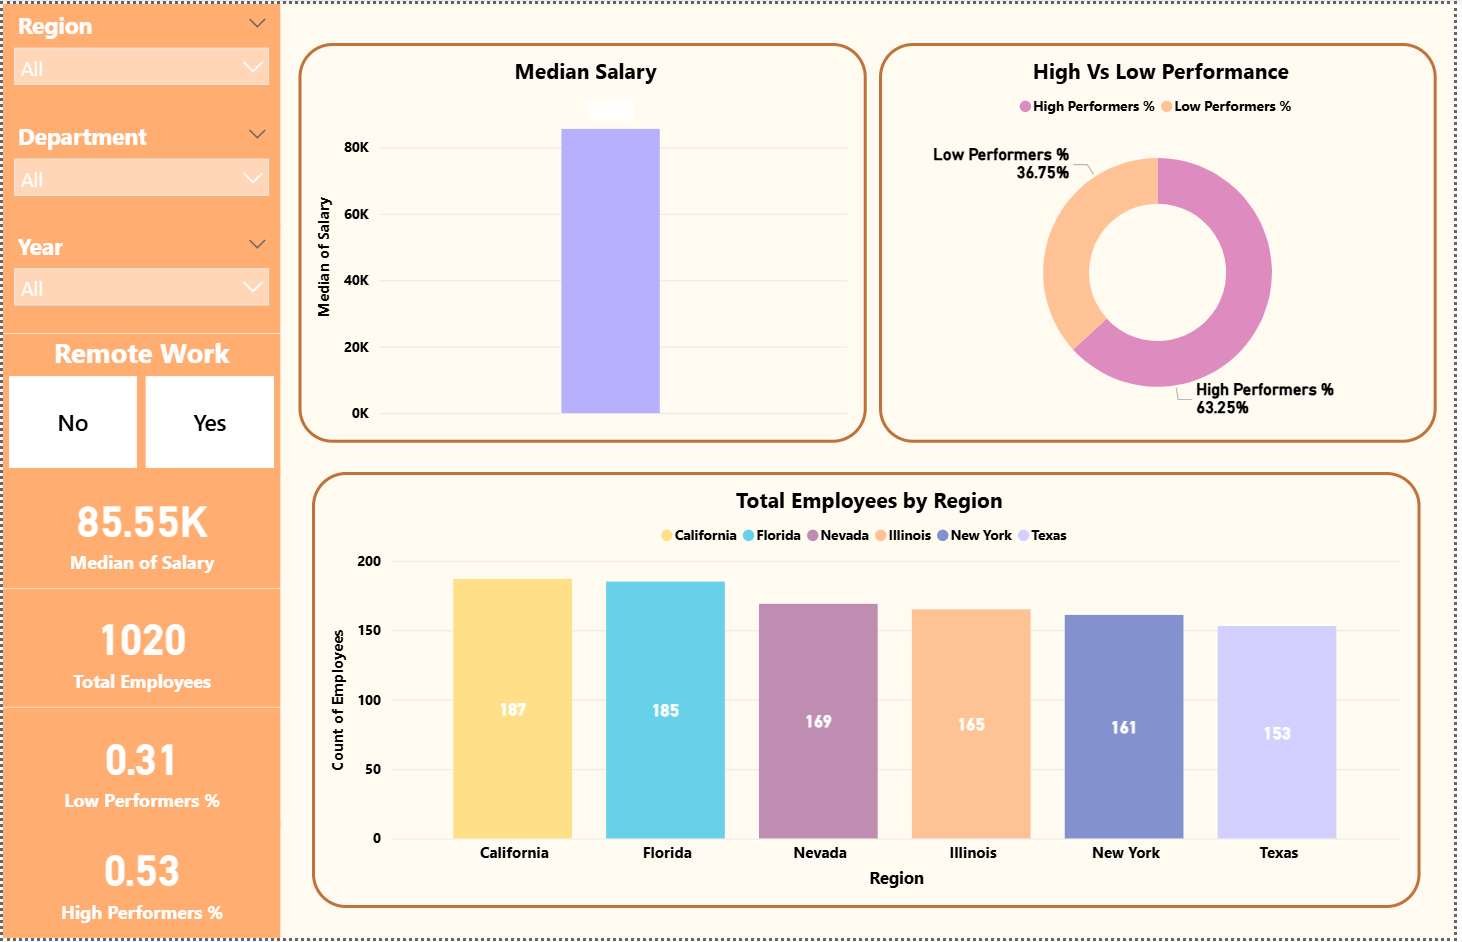

Layout of this report page (visuals, bound fields, positions):
{"tool":"powerbi","page":{"name":"Executive Overview","canvas":[1280,824],"ordinal":1},"visuals":[{"type":"card","fields":{"Values":["employees.Low_Performers"]},"box":[0,620.5,244.7,105.8],"z":0},{"type":"card","fields":{"Values":["employees.High_Performers"]},"box":[0,720,244.7,104.2],"z":1000},{"type":"card","fields":{"Values":["Median(employees.Salary)"]},"box":[0,412.1,244.7,104.2],"z":2000},{"type":"card","fields":{"Values":["Count(employees.Employee_ID)"]},"box":[0,516.3,244.7,104.2],"z":3000},{"type":"slicer","fields":{"Values":["employees.Department"]},"box":[0,97.9,244.7,97.9],"z":4000},{"type":"slicer","fields":{"Values":["employees.Region"]},"box":[0,0,244.7,97.9],"z":5000},{"type":"slicer","fields":{"Values":["employees.Year"]},"box":[0,194.2,244.7,96.3],"z":6000},{"type":"advancedSlicerVisual","fields":{"Values":["employees.Remote_Work_Group"]},"box":[0,290.5,244.7,123.2],"z":7000},{"type":"columnChart","title":"Total Employees by Region","fields":{"Category":["employees.Region"],"Series":["employees.Region"],"Y":["CountNonNull(employees.Employee_ID)"]},"box":[272.6,413.4,978.2,384.6],"z":8000},{"type":"donutChart","title":"High Vs Low Performance","fields":{"Y":["employees.High_Performers","employees.Low_Performers"]},"box":[772.2,34.8,492.1,352.8],"z":9000},{"type":"lineStackedColumnComboChart","title":"Median Salary ","fields":{"Y":["Median(employees.Salary)"]},"box":[260.4,34.8,501.2,352.8],"z":10000}]}

Visuals, with their boxes in screenshot pixels (x1, y1, x2, y2), scaled from the page's 1280x824 canvas onto the 1462x942 screenshot:
card - employees.Low_Performers: (0,709,279,830)
card - employees.High_Performers: (0,823,279,941)
card - Median(employees.Salary): (0,471,279,590)
card - Count(employees.Employee_ID): (0,590,279,709)
slicer - employees.Department: (0,112,279,224)
slicer - employees.Region: (0,0,279,112)
slicer - employees.Year: (0,222,279,332)
advancedSlicerVisual - employees.Remote_Work_Group: (0,332,279,473)
"Total Employees by Region" columnChart: (311,473,1429,912)
"High Vs Low Performance" donutChart: (882,40,1444,443)
"Median Salary " lineStackedColumnComboChart: (297,40,870,443)
